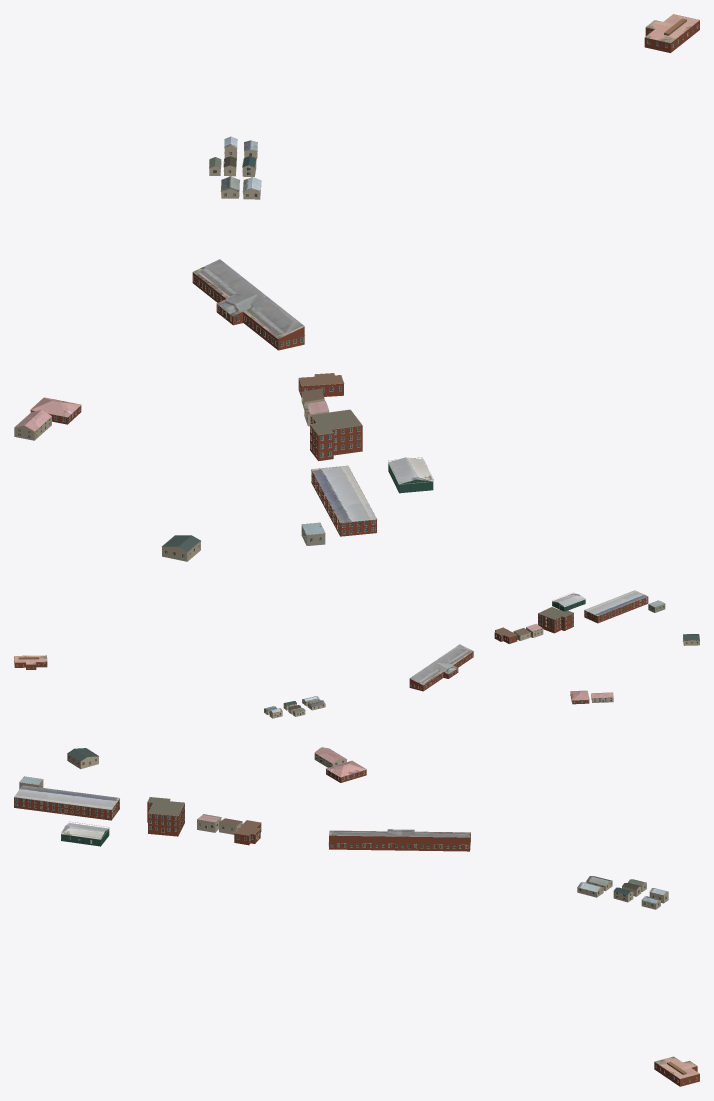
The picture shows the model from 3 angles, top to bottom: view 1: azimuth 30°, elevation 25°; view 2: azimuth 150°, elevation 25°; view 3: azimuth 270°, elevation 25°; orthographic projection. The views are drawn at different scales.
Parts seen in each view (by area): view 1: -3_1_272129190_1, -3_1_272129189_0; view 2: -3_1_272129190_1, -3_1_272129189_0; view 3: -3_1_272129190_1, -3_1_272129189_0.
Part boxes in pixels (x1,y1,x2,y2): -3_1_272129190_1: (14, 14, 699, 536); -3_1_272129189_0: (14, 14, 699, 561); -3_1_272129190_1: (14, 590, 664, 712); -3_1_272129189_0: (14, 590, 699, 718); -3_1_272129190_1: (14, 747, 699, 1086); -3_1_272129189_0: (14, 748, 699, 1083).
Bounding box in the file's own units: 511 × 23.1 × 423.
17 materials, 1 textured.
